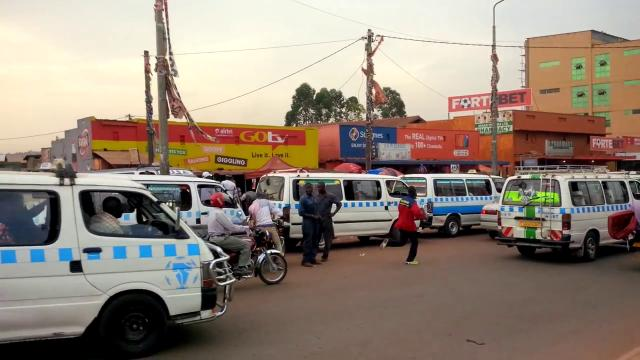van: (0, 166, 233, 360), (498, 163, 640, 259), (89, 168, 250, 235), (284, 171, 402, 249), (381, 172, 500, 239)
